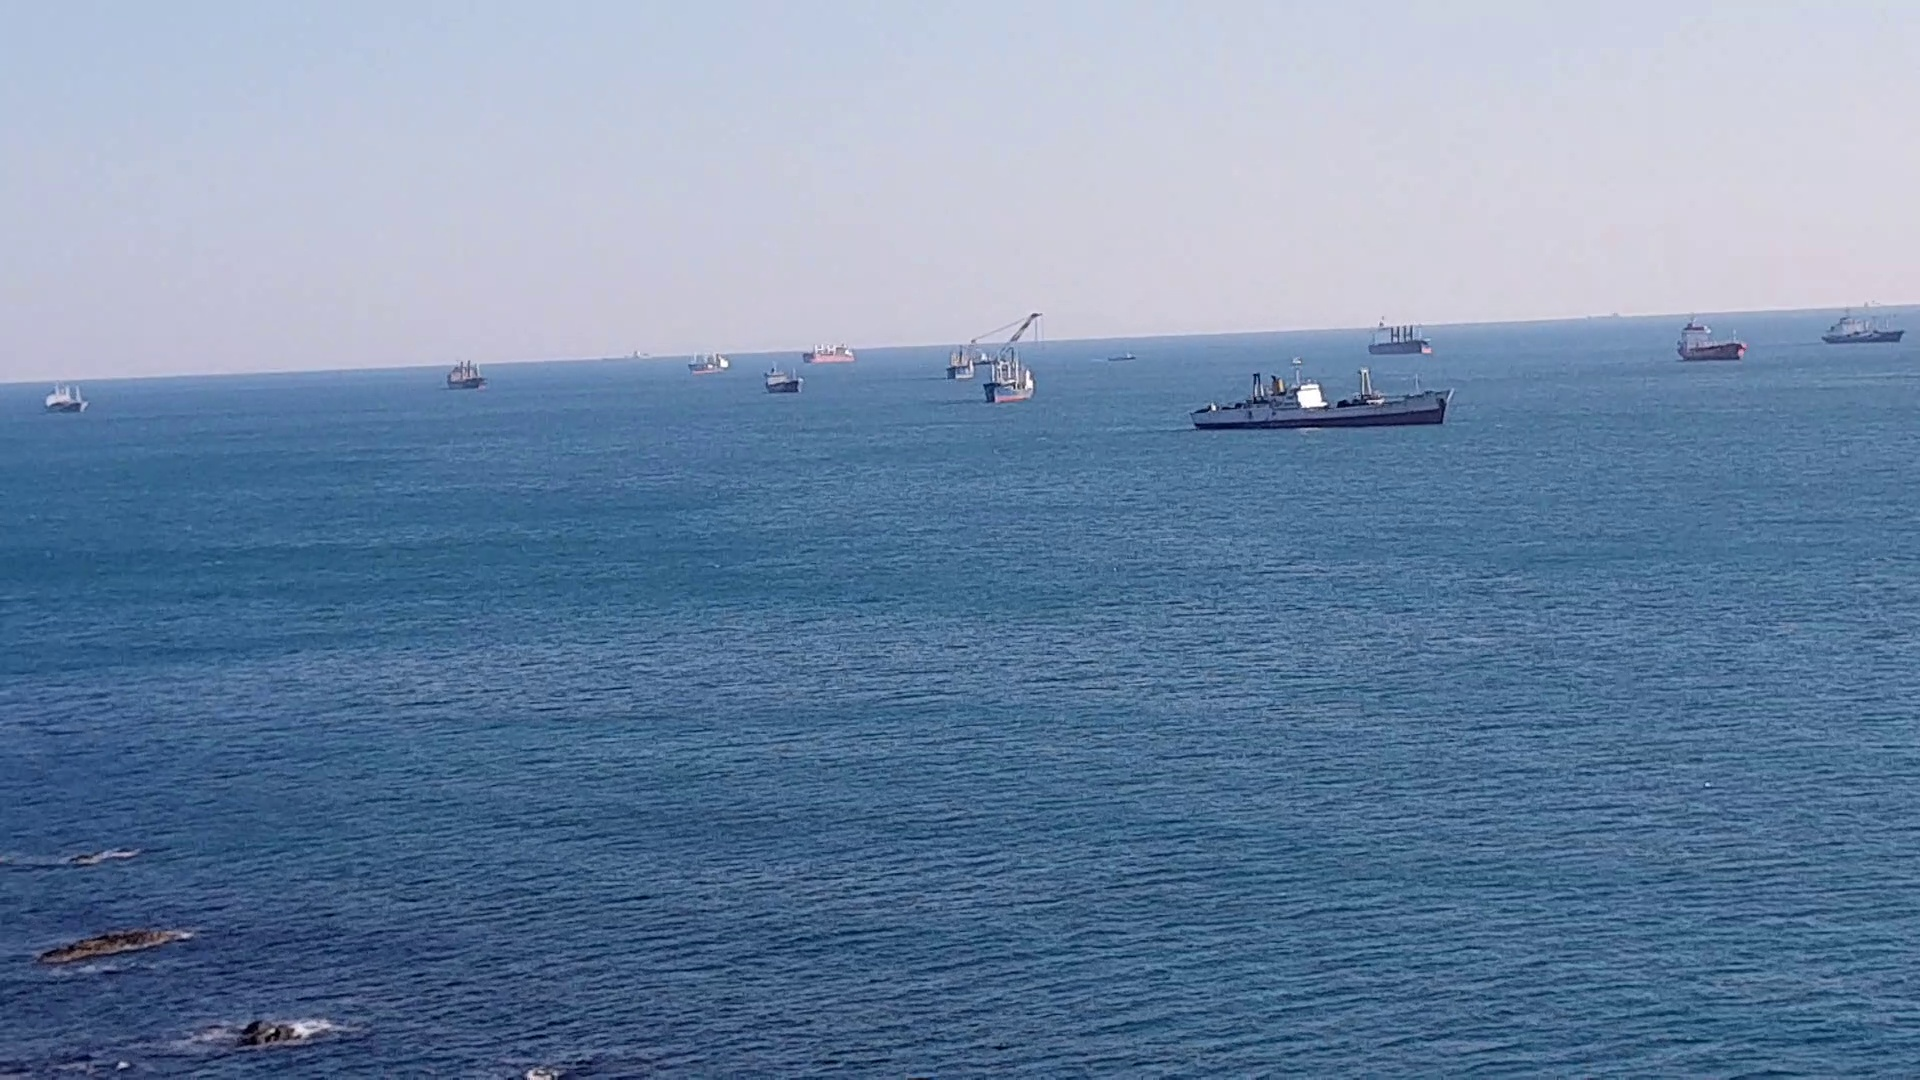Bulk_Carrier: (1665, 334, 1749, 357), (795, 342, 852, 360), (444, 369, 481, 386)
